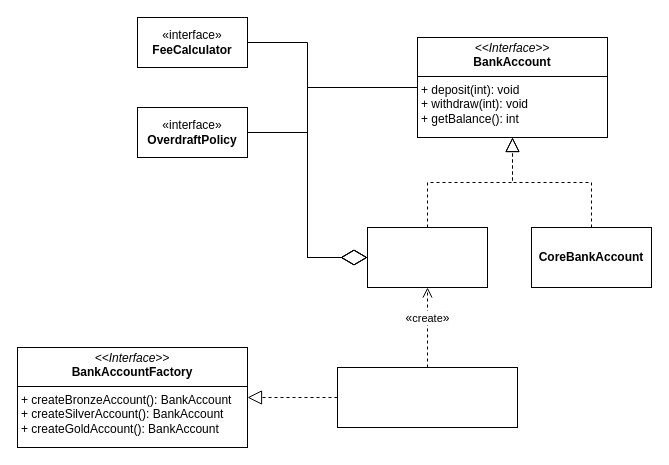
Some shapes in this 669 by 465 pixel diagram are drawn without their labels. Each missing label, with the centre of its shape:
BankAccountFactoryImpl: the point at 427,397
BankAccountImpl: the point at 427,257
